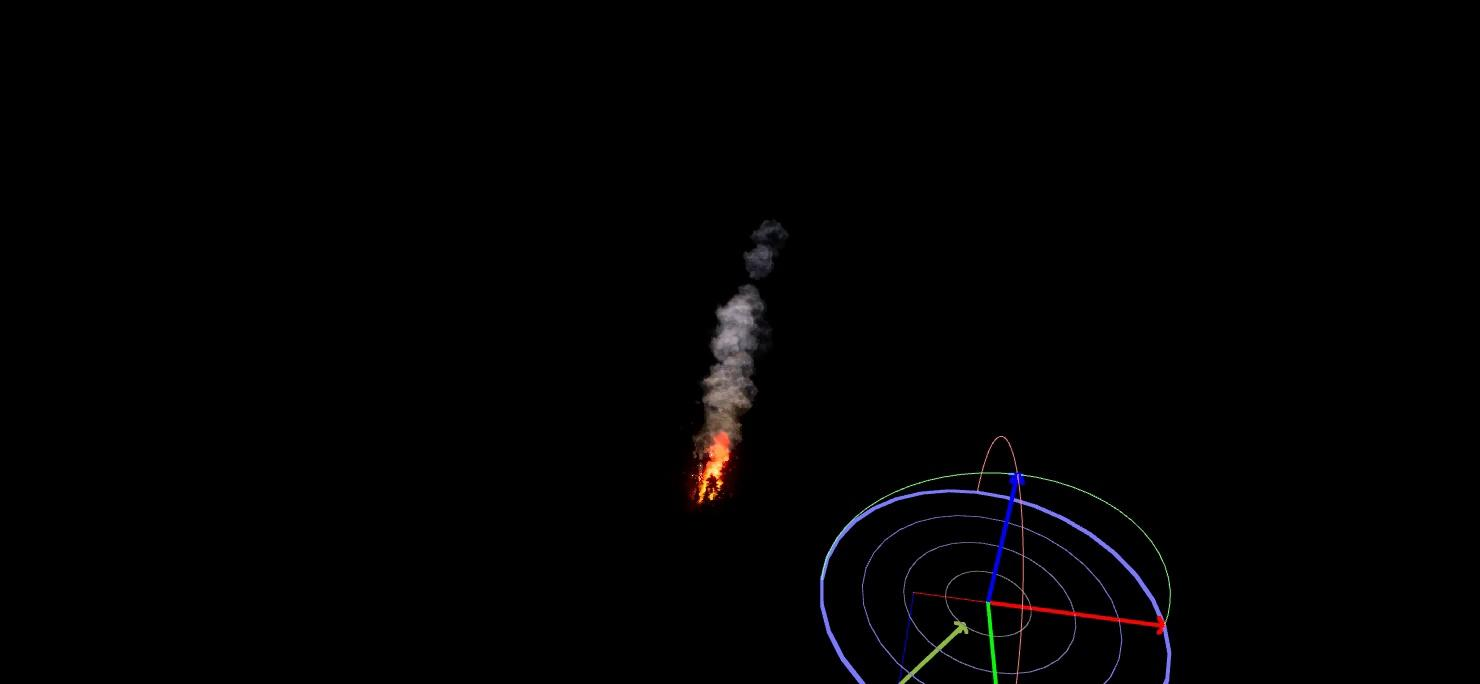fire: (695, 434, 729, 511)
smoke: (695, 217, 793, 440)
